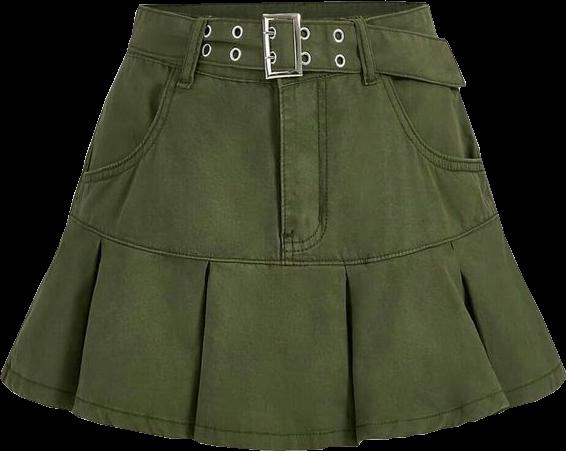Hemline: (0, 375, 565, 450)
Waistline: (67, 211, 498, 268), (123, 38, 443, 78), (137, 2, 428, 22)
